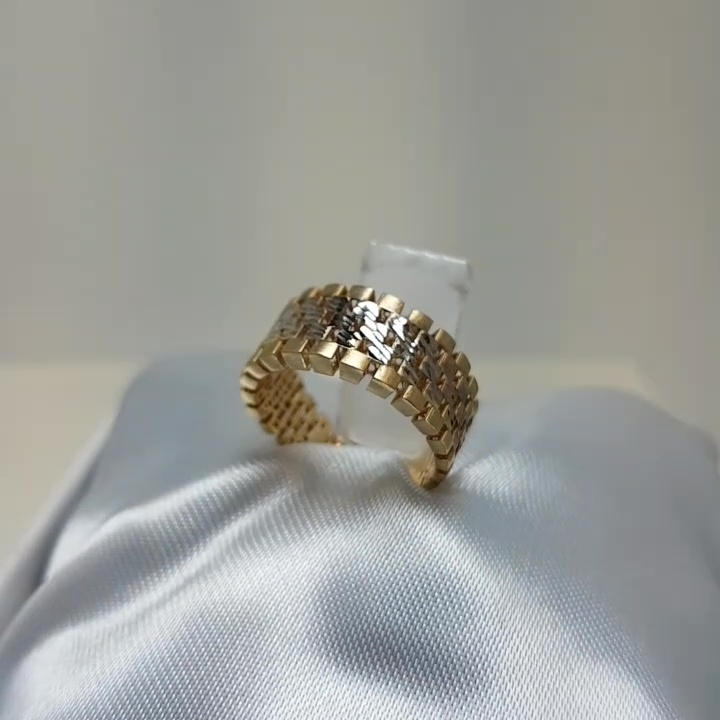Ring 1: (215, 265, 496, 508)
